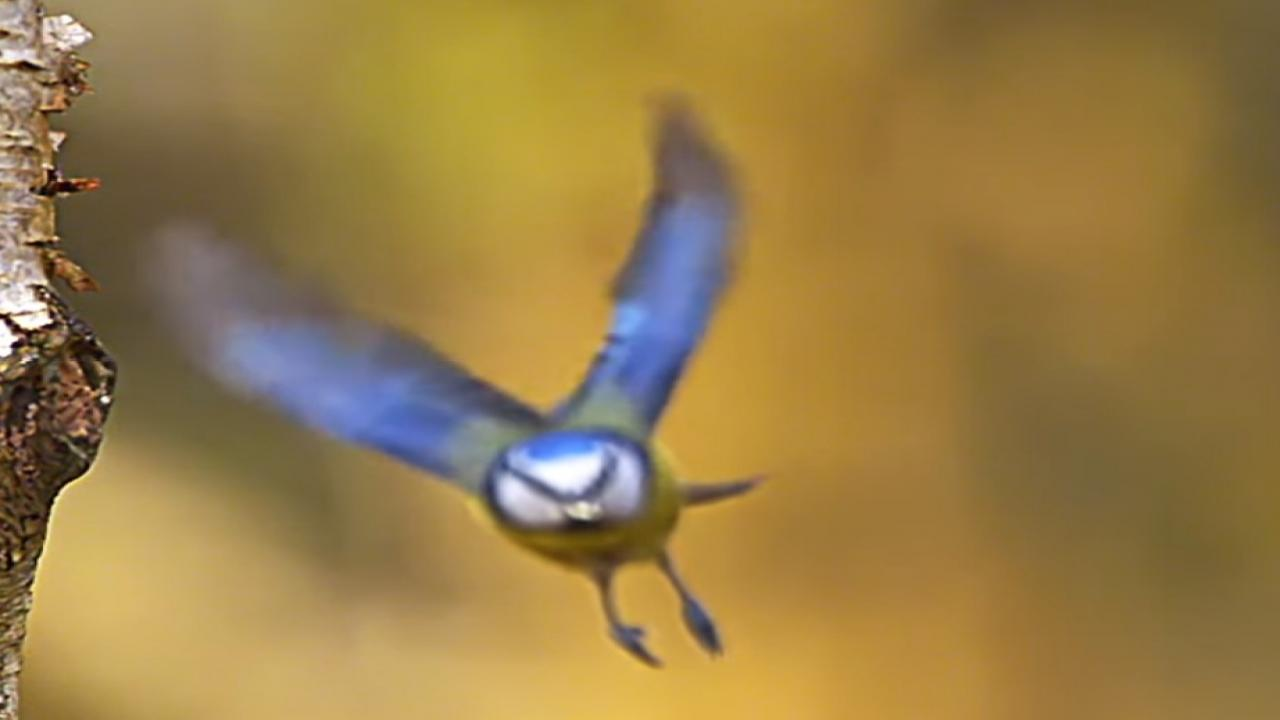Bird: (114, 80, 787, 677)
